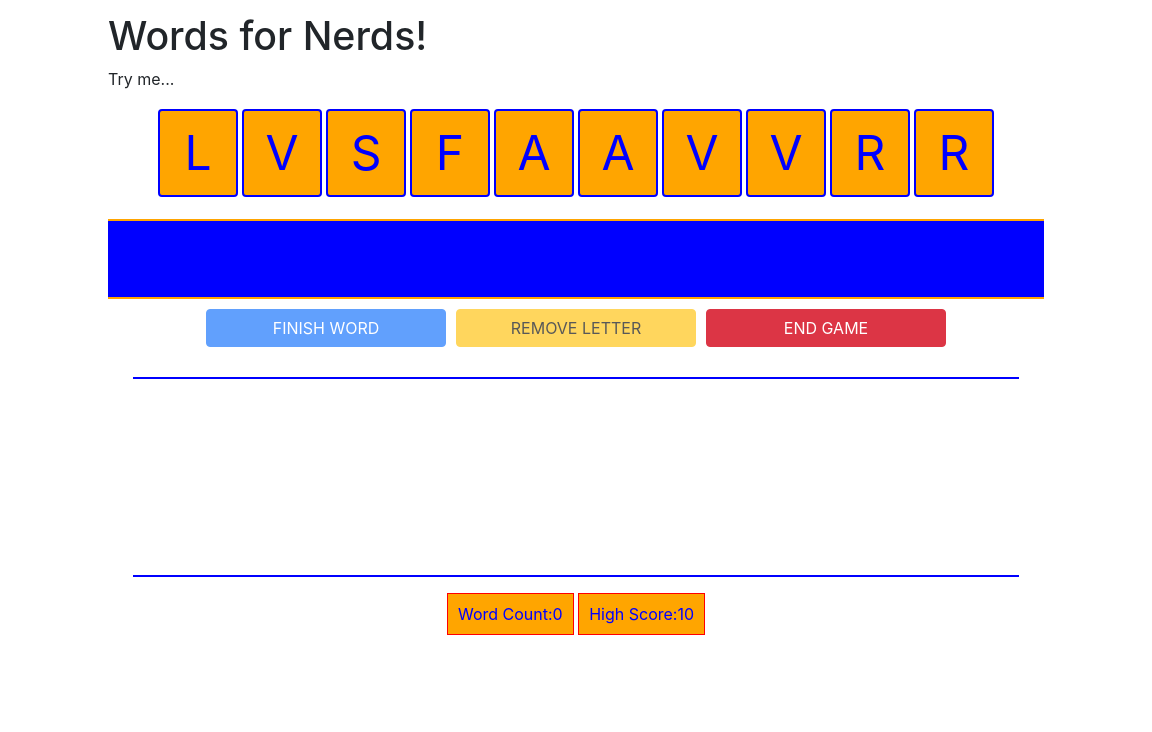
Test: <Words /> › should end game and hide WordBuilder and WordList
The image size is (1152, 732).
Expected: the text "START" is not shown
click it
Click the button "END GAME".
click(826, 328)  # box [706,309,946,347]
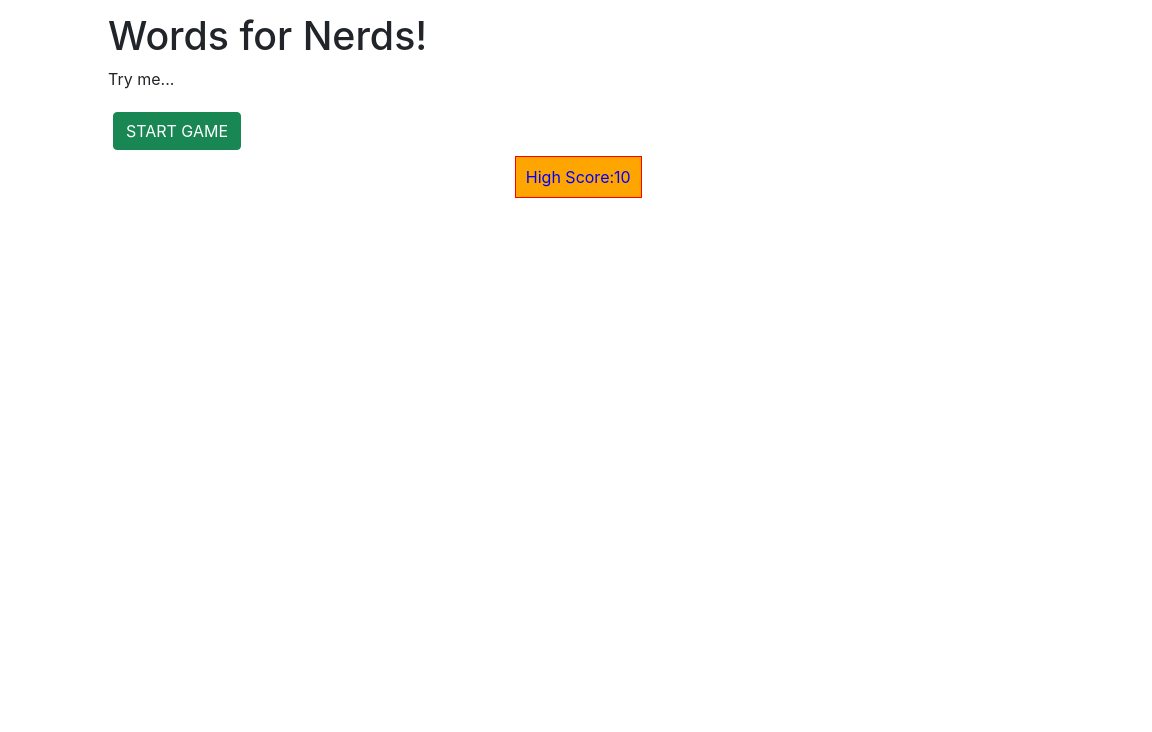
Expected: the heading "Words for Nerds!" is shown, [108,12,427,59]
Expected: the button "START GAME" is shown, [113,112,241,150]
